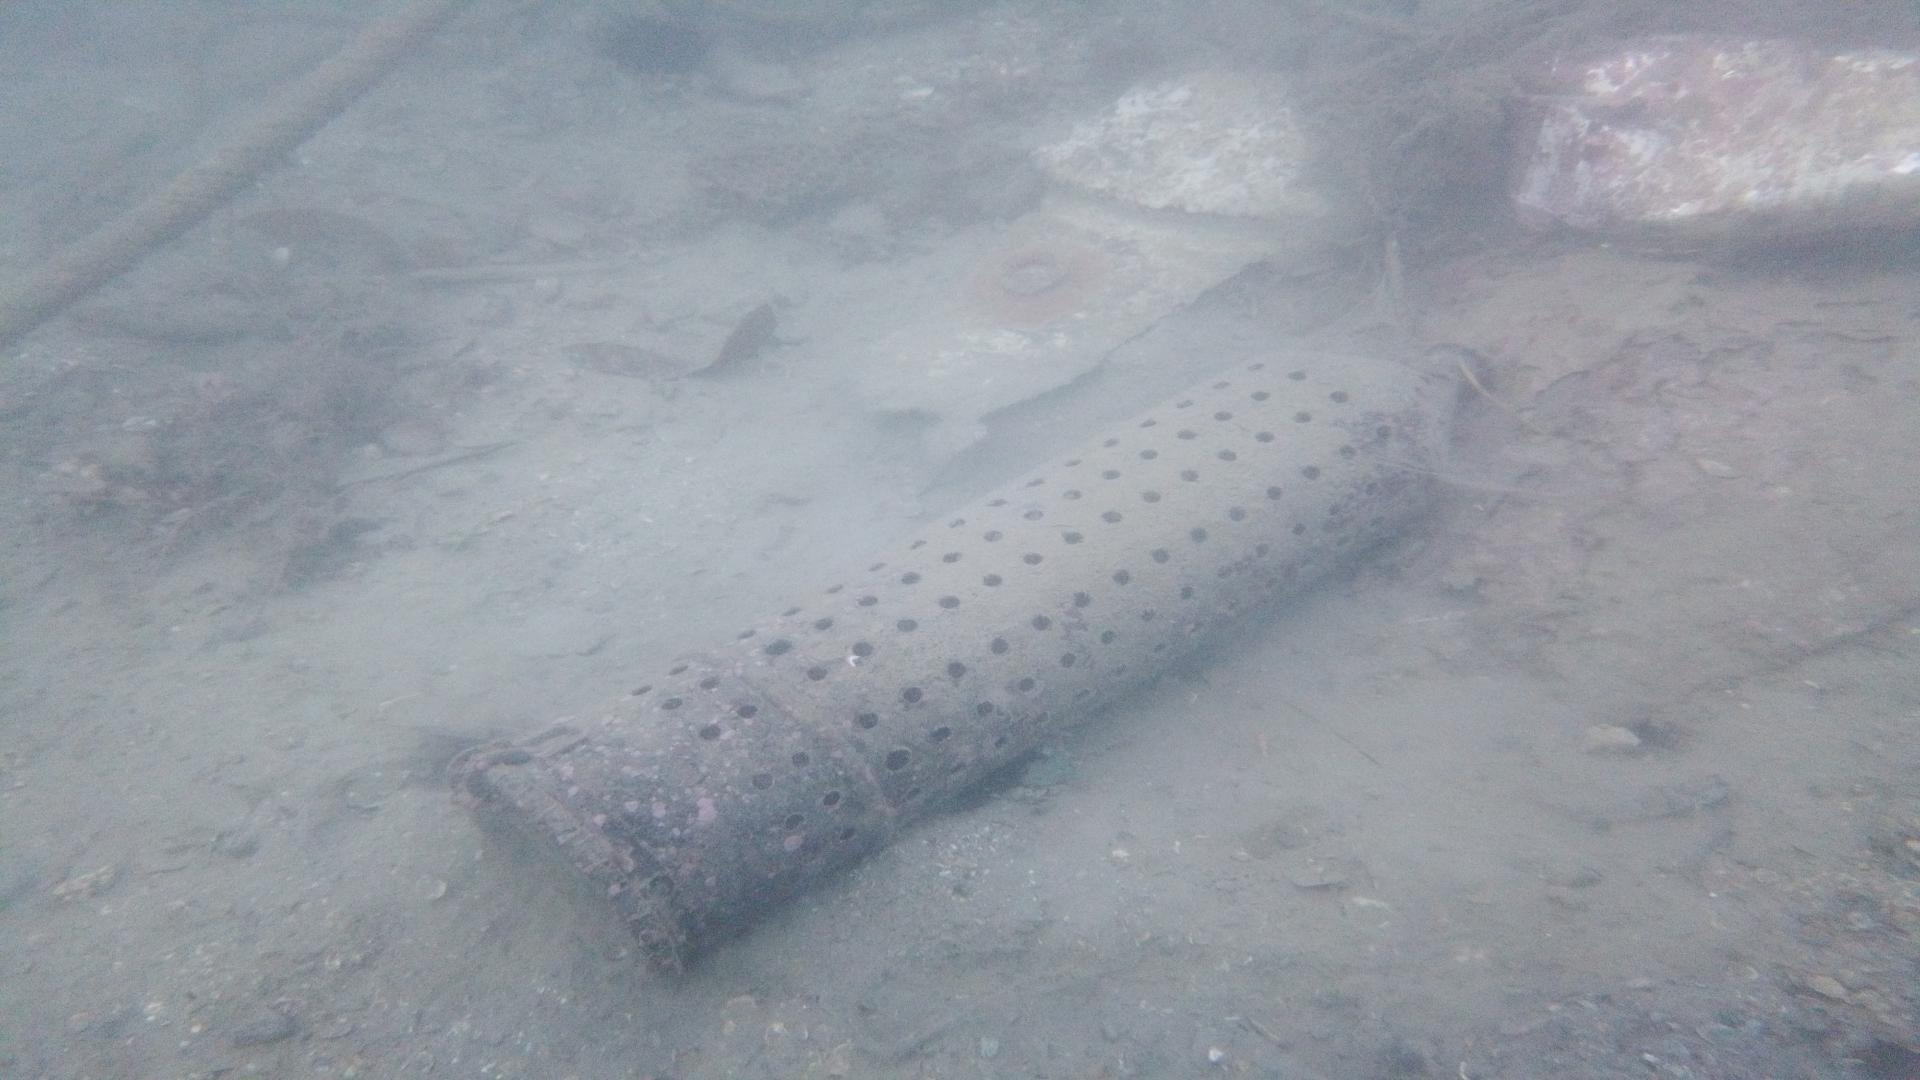eel fish trap: (450, 338, 1493, 982)
